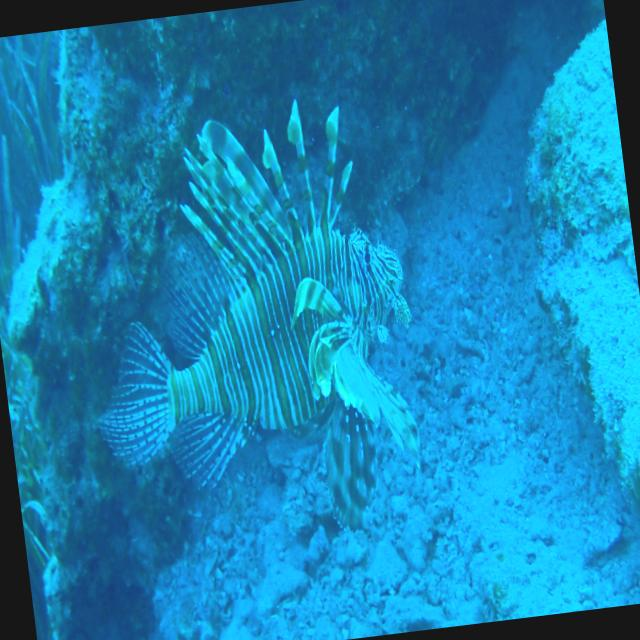Aslan Baligi: (56, 84, 438, 562)
